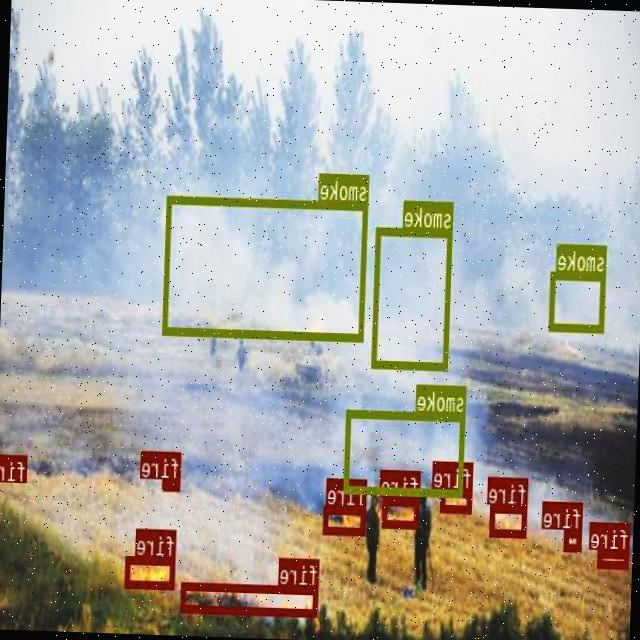fire: (182, 580, 320, 614), (125, 554, 175, 587), (490, 503, 528, 536), (324, 505, 366, 533), (382, 496, 420, 526), (440, 488, 472, 512), (0, 453, 28, 476), (598, 548, 630, 568), (564, 528, 583, 550), (163, 478, 180, 488)
smoke: (163, 194, 369, 339), (372, 226, 453, 368), (344, 408, 466, 494), (550, 270, 606, 330)
